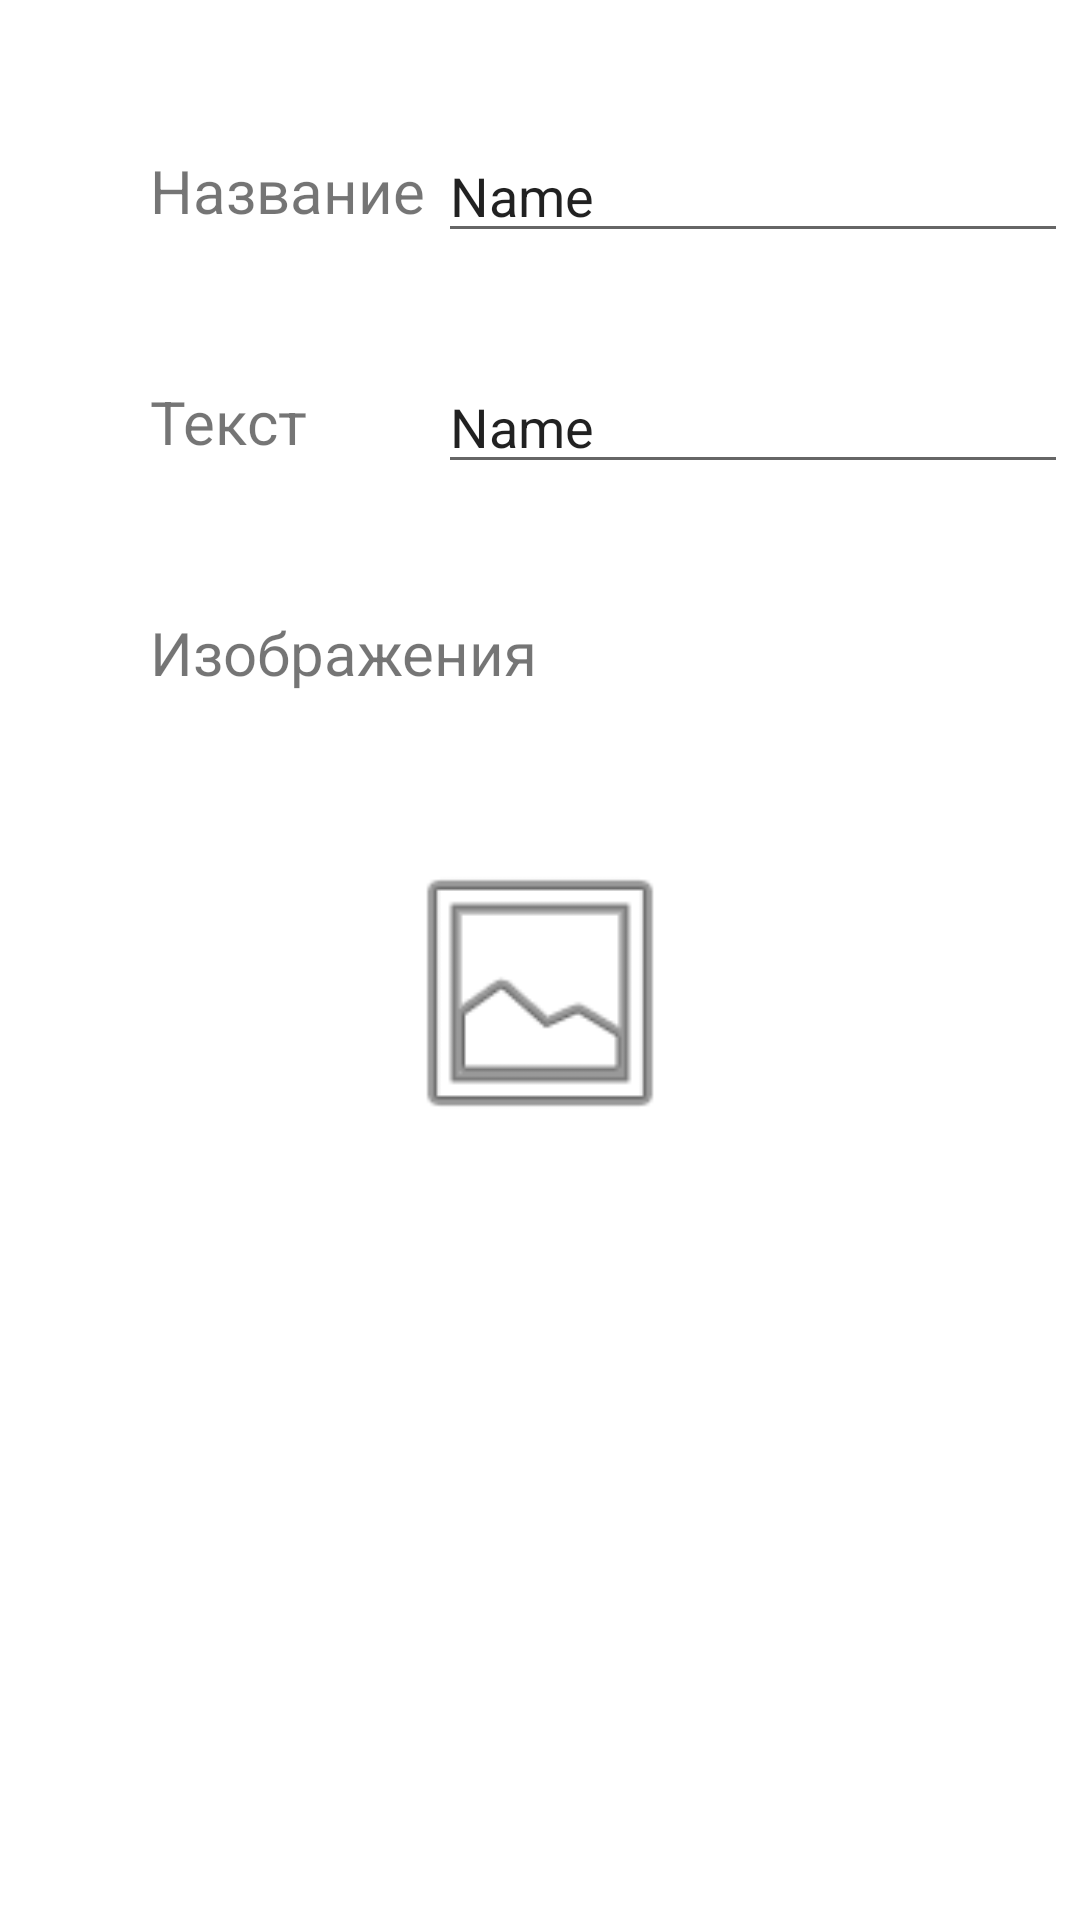

Point at icon controls on the screen. Image size 1080×1920, points as [x,y].
gallery: [540,993]
